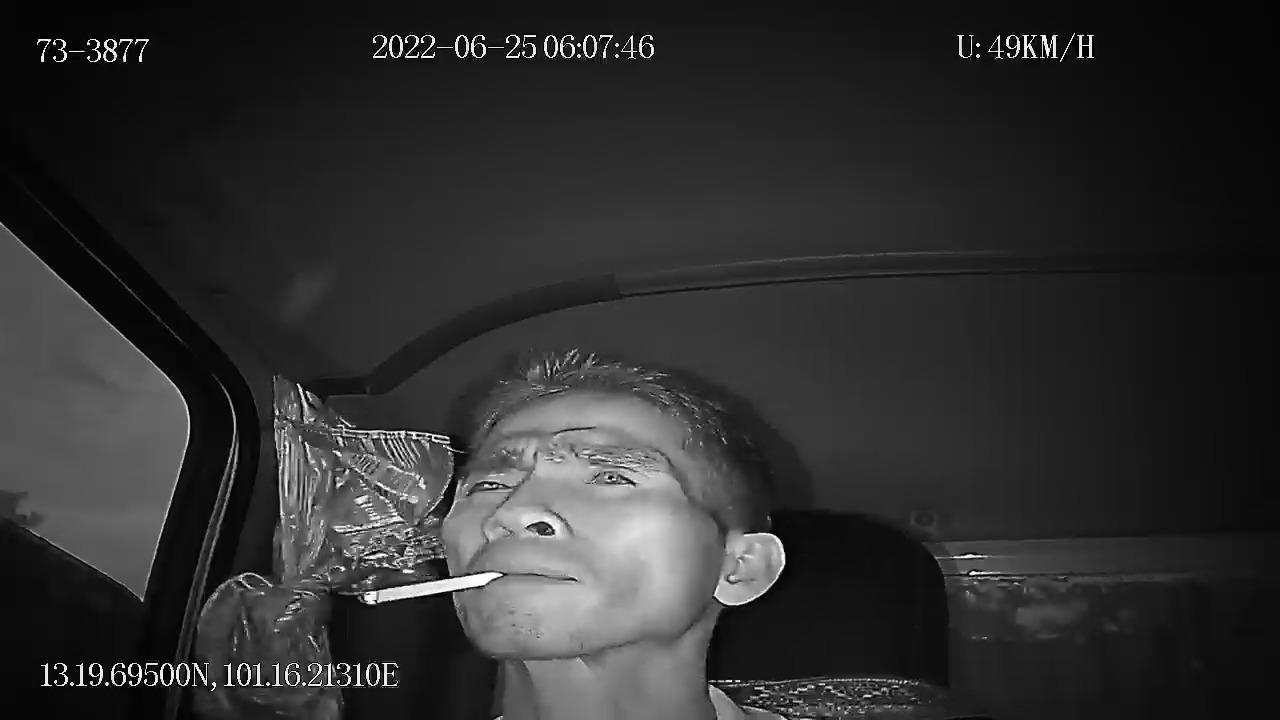Smoking: (343, 572, 532, 633)
